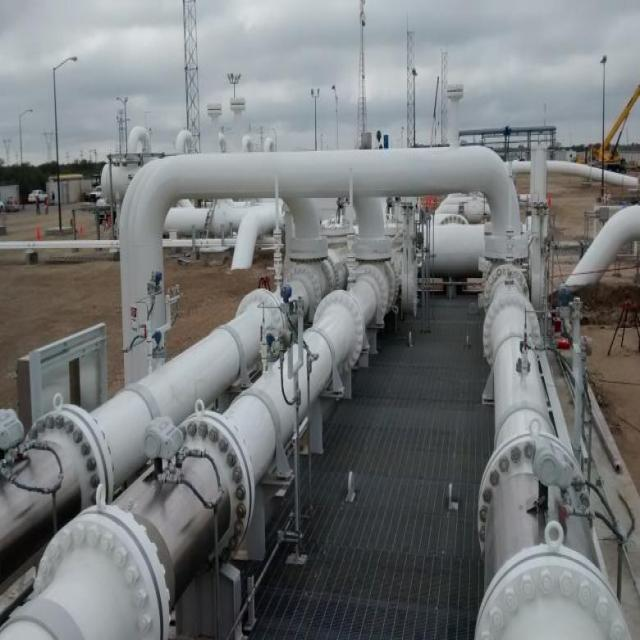gas: (11, 266, 380, 640), (2, 271, 311, 580), (119, 148, 525, 372), (486, 274, 609, 631), (164, 204, 285, 271), (566, 208, 639, 288), (505, 160, 639, 198), (423, 225, 484, 274), (287, 201, 324, 276), (353, 198, 383, 269)
